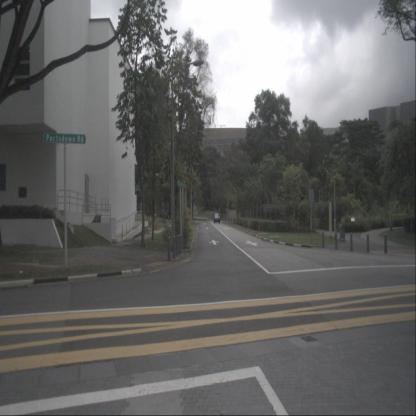vehicle-car: (214, 212, 220, 224)
